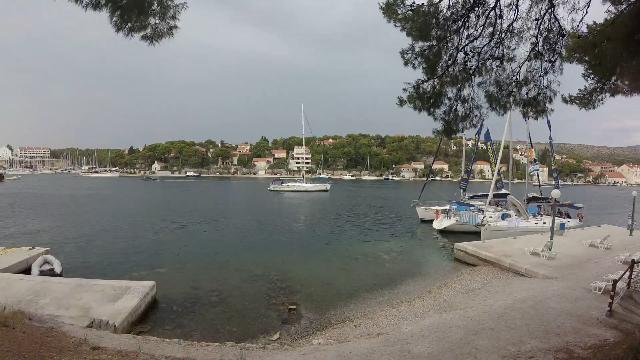Sailboat: (262, 175, 336, 199)
speedboat: (138, 170, 158, 184)
